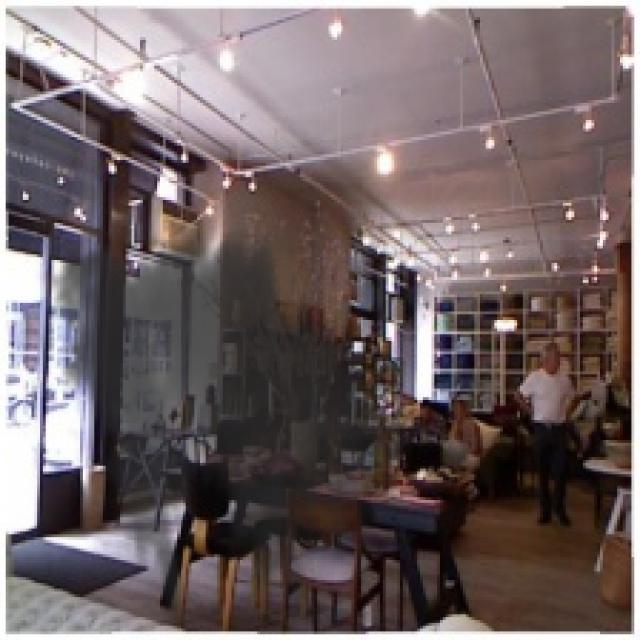Smoke: (34, 208, 420, 626)
